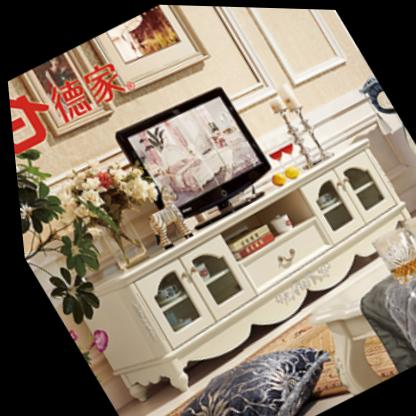TV stand: (81, 136, 405, 402)
